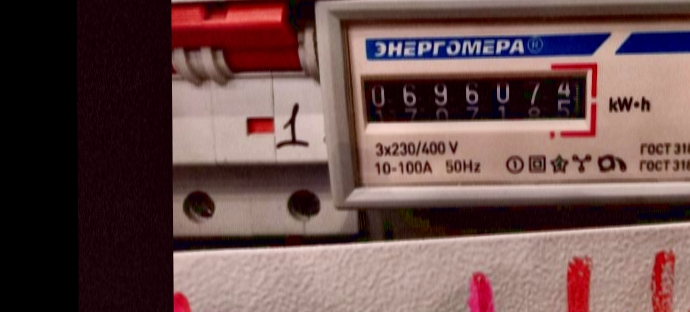0: (370, 81, 388, 106), (496, 77, 512, 104)
4: (558, 76, 572, 97)
5: (558, 98, 572, 117)
6: (401, 80, 419, 105), (465, 78, 481, 105)
7: (527, 78, 543, 104)
9: (433, 80, 450, 106)
screen: (356, 60, 603, 139)
